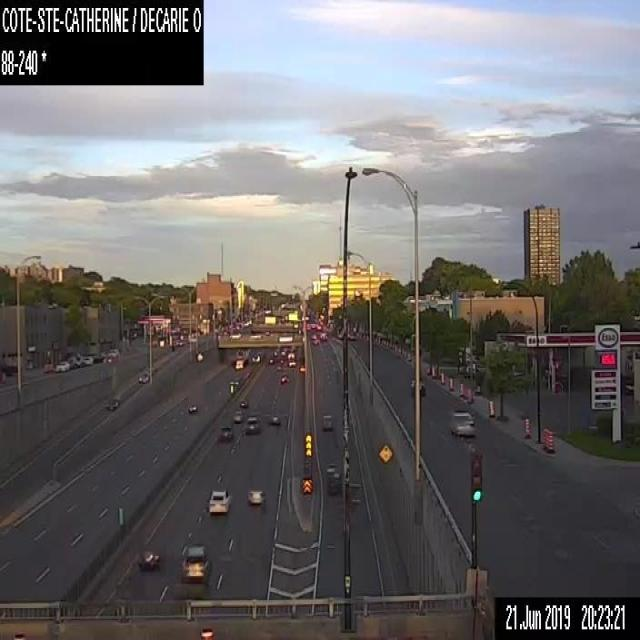construction: (524, 417, 530, 438), (488, 400, 494, 417), (548, 430, 552, 452), (542, 428, 546, 450), (545, 430, 549, 451), (467, 386, 471, 403), (459, 382, 464, 394), (448, 377, 452, 390), (431, 365, 435, 377), (440, 371, 443, 384)
vehicle: (138, 536, 166, 569), (183, 546, 210, 578), (449, 410, 475, 435), (208, 488, 233, 512), (235, 348, 250, 369), (245, 416, 260, 434), (410, 379, 425, 396), (247, 488, 262, 504), (218, 425, 232, 440), (54, 360, 69, 372), (104, 397, 118, 409), (321, 414, 332, 429), (232, 409, 242, 423), (107, 348, 119, 359), (138, 370, 149, 382), (269, 414, 280, 426), (334, 326, 342, 338), (348, 328, 356, 340), (280, 373, 289, 383), (251, 353, 260, 362), (74, 355, 82, 365), (83, 356, 92, 364), (188, 404, 196, 413), (310, 337, 319, 345), (239, 399, 247, 407), (287, 359, 295, 366), (287, 351, 295, 358), (268, 357, 273, 363), (272, 350, 277, 355)
